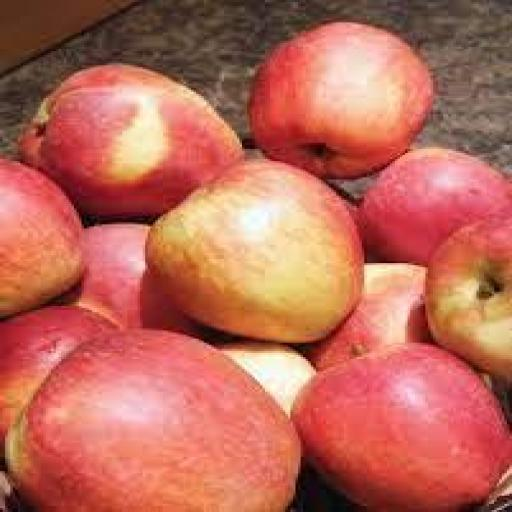apple: (8, 329, 300, 511), (148, 160, 364, 342), (293, 343, 511, 511), (18, 64, 241, 218), (250, 23, 433, 177)
